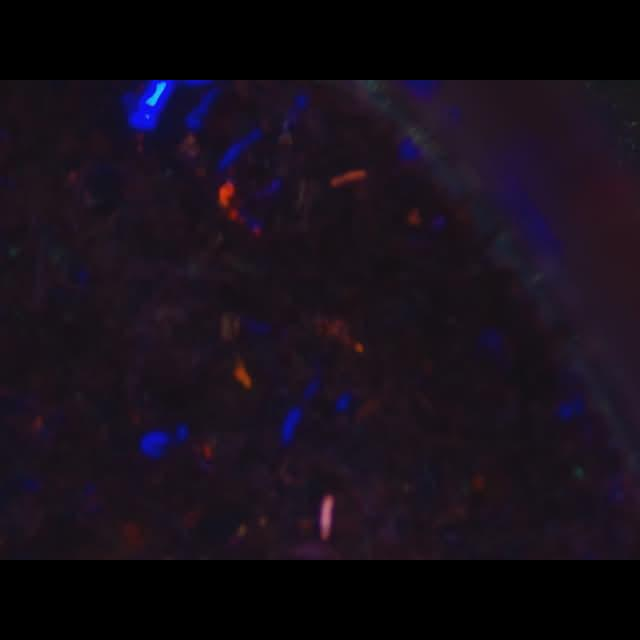Fragment: (320, 494, 334, 540)
